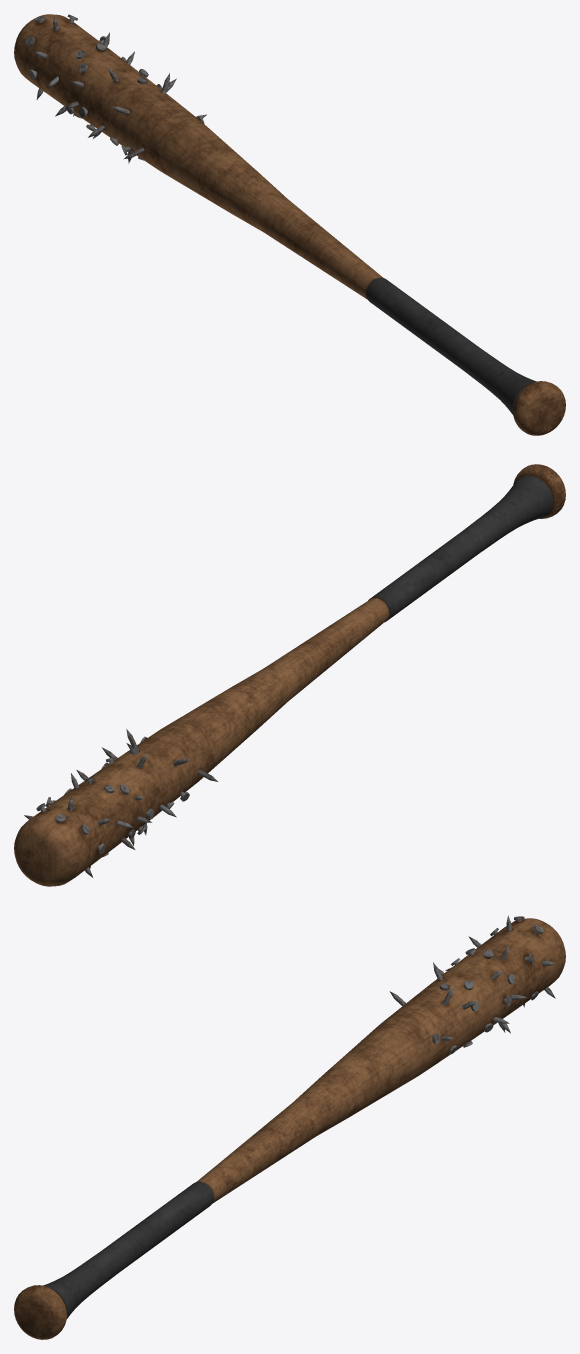
Rendered from baseball_bat.glb.
3 renders of one model, top to bottom at view 1: azimuth 30°, elevation 25°; view 2: azimuth 150°, elevation 25°; view 3: azimuth 330°, elevation 25°, orthographic.
Visible parts, largest first — view 1: Cylinder, Cylinder.032; view 2: Cylinder, Cylinder.032; view 3: Cylinder, Cylinder.032.
Part boxes in pixels (x1=…): Cylinder: x1=14, y1=14, x2=565, y2=435; Cylinder.032: x1=25, y1=14, x2=206, y2=163; Cylinder: x1=14, y1=464, x2=565, y2=886; Cylinder.032: x1=24, y1=729, x2=217, y2=877; Cylinder: x1=14, y1=918, x2=565, y2=1339; Cylinder.032: x1=389, y1=915, x2=555, y2=1054.
Size of the model in its own units: 0.4931 by 0.4784 by 4.64.
Materials: 1 (1 with a texture image).
